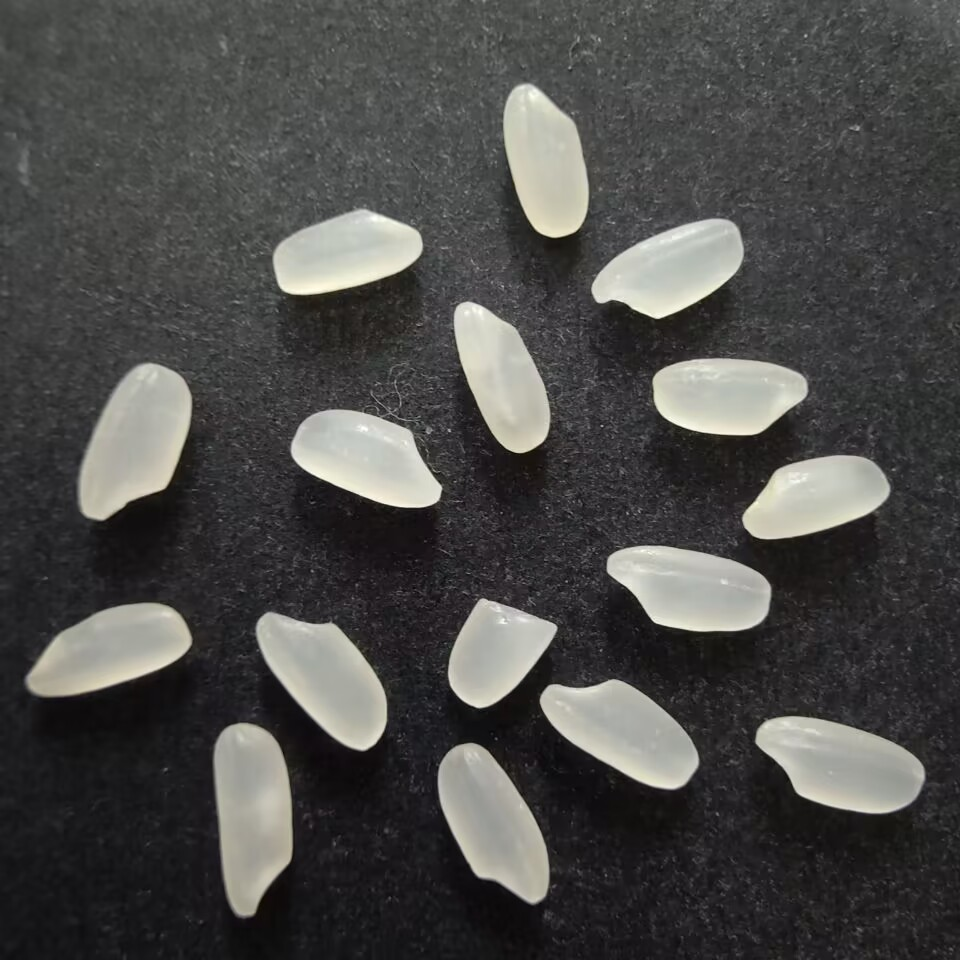broken: (442, 595, 560, 711)
rice: (431, 739, 552, 908), (250, 608, 391, 753), (75, 357, 194, 528), (534, 678, 701, 792), (207, 718, 298, 923), (753, 713, 928, 818), (22, 596, 195, 700), (285, 403, 446, 513), (585, 214, 748, 319), (599, 543, 774, 637), (452, 300, 553, 457), (498, 78, 592, 241), (646, 352, 814, 440), (269, 206, 426, 299), (739, 450, 892, 544)
